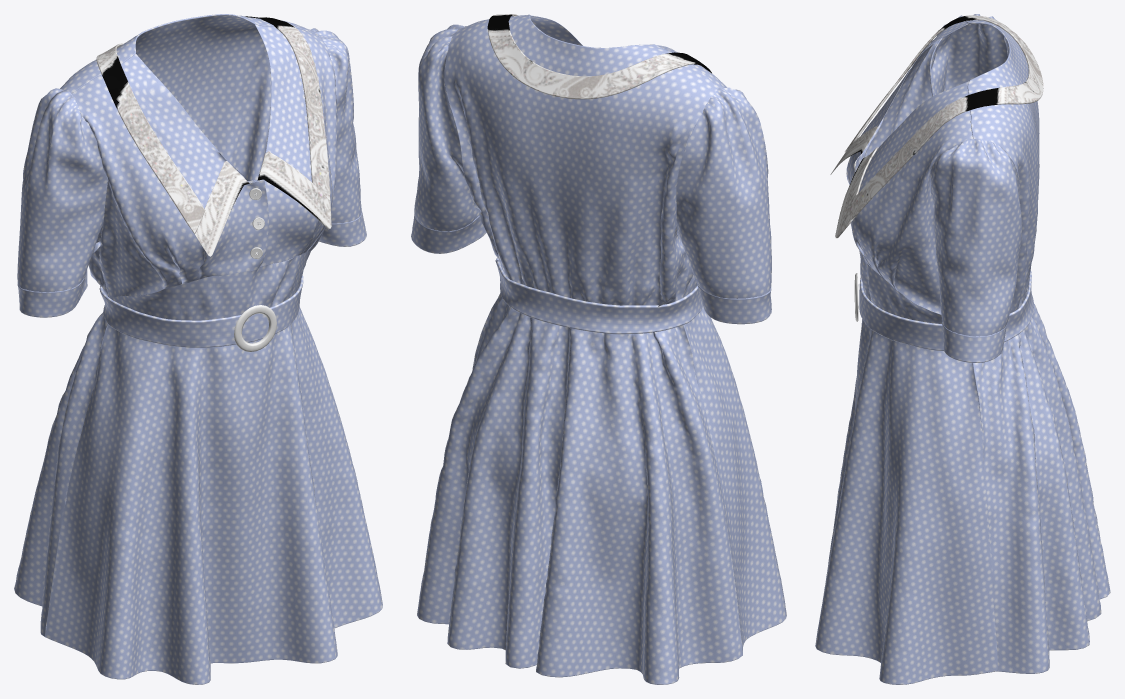
Rendered from polka_dot_dress.glb.
3 views of the same model, side by side, from view 1: azimuth 30°, elevation 25°; view 2: azimuth 150°, elevation 25°; view 3: azimuth 270°, elevation 25° (orthographic). The views are drawn at different scales.
Visible parts, largest first — view 1: Object_3, Object_7, Object_6, Object_4, Object_8, Object_5, Object_2; view 2: Object_5, Object_6, Object_8, Object_3, Object_4, Object_7; view 3: Object_3, Object_5, Object_8, Object_7, Object_6, Object_4.
Part boxes in pixels (x1,y1,x2,y2): Object_3: (44,307,382,684); Object_7: (17,24,366,317); Object_6: (60,14,317,347); Object_4: (96,16,331,320); Object_8: (17,28,361,292); Object_5: (14,312,108,636); Object_2: (234,305,276,351); Object_5: (417,293,742,684); Object_6: (444,14,718,334); Object_8: (414,24,771,298); Object_3: (473,306,786,655); Object_4: (487,14,711,297); Object_7: (411,15,771,324); Object_3: (815,319,997,684); Object_5: (972,288,1110,673); Object_8: (929,14,1022,336); Object_7: (846,21,1006,362); Object_6: (859,20,1039,350); Object_4: (830,15,1043,323).
Bounding box in the file's own units: 470 × 775 × 358.
Materials: 3 (1 with a texture image).
